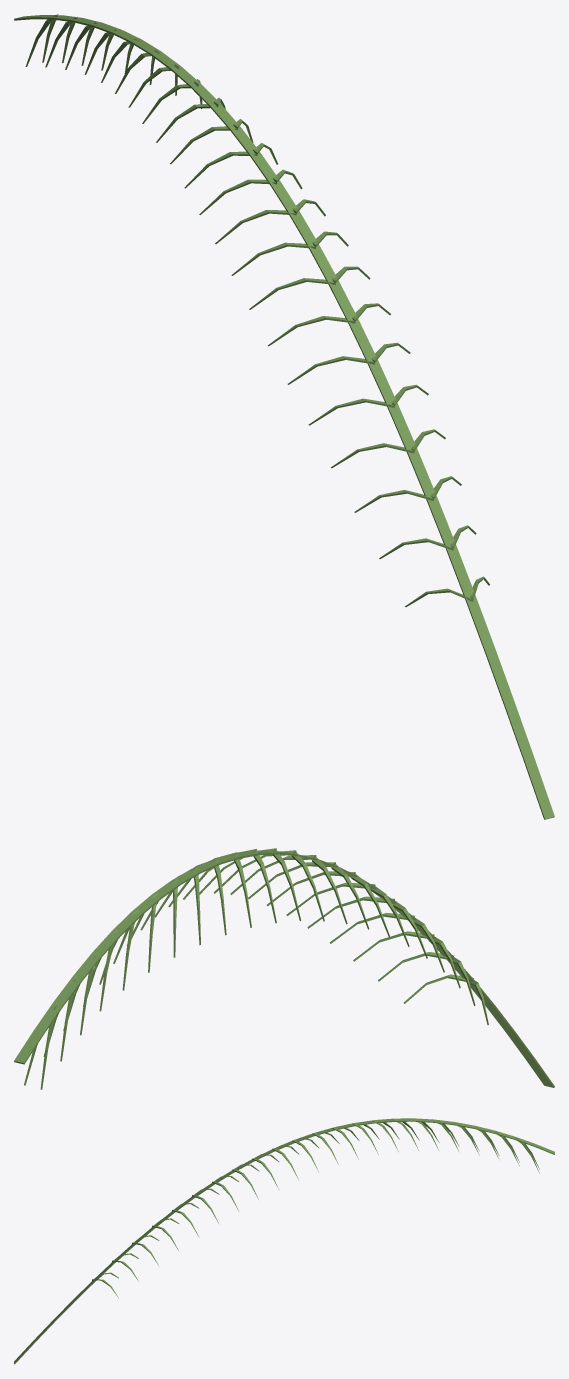
3 renders of one model, top to bottom at view 1: azimuth 30°, elevation 25°; view 2: azimuth 150°, elevation 25°; view 3: azimuth 270°, elevation 25°, orthographic. The views are drawn at different scales.
Visible parts, largest first — view 1: frond; view 2: frond; view 3: frond.
Part boxes in pixels (<box>): frond: <box>14,14,554,819</box>; frond: <box>14,848,554,1089</box>; frond: <box>14,1118,554,1364</box>.
Size of the model in its own units: 0.2959 by 1.1 by 2.2.
